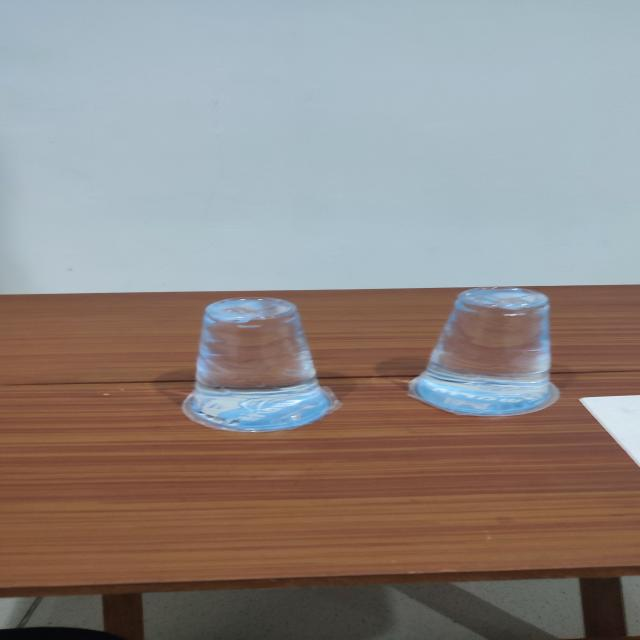air gelas: (407, 284, 571, 428), (181, 296, 350, 432)
